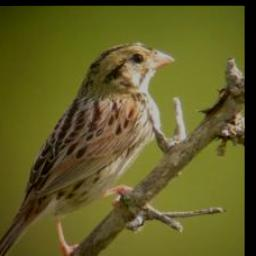Sparrow: (0, 37, 176, 256)
